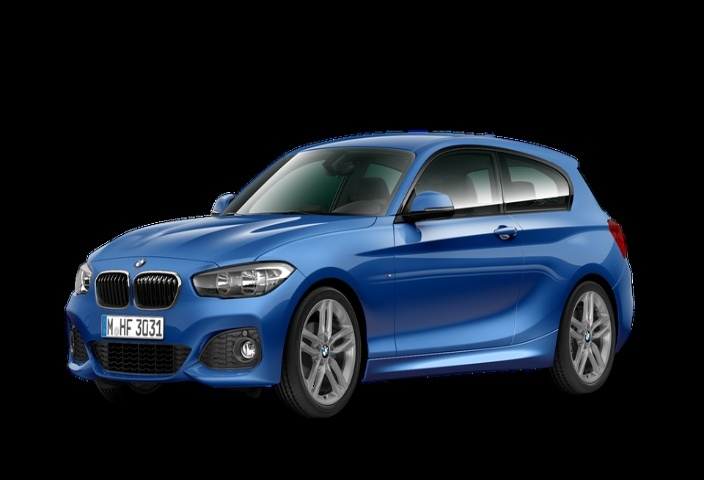car: (57, 95, 655, 421)
